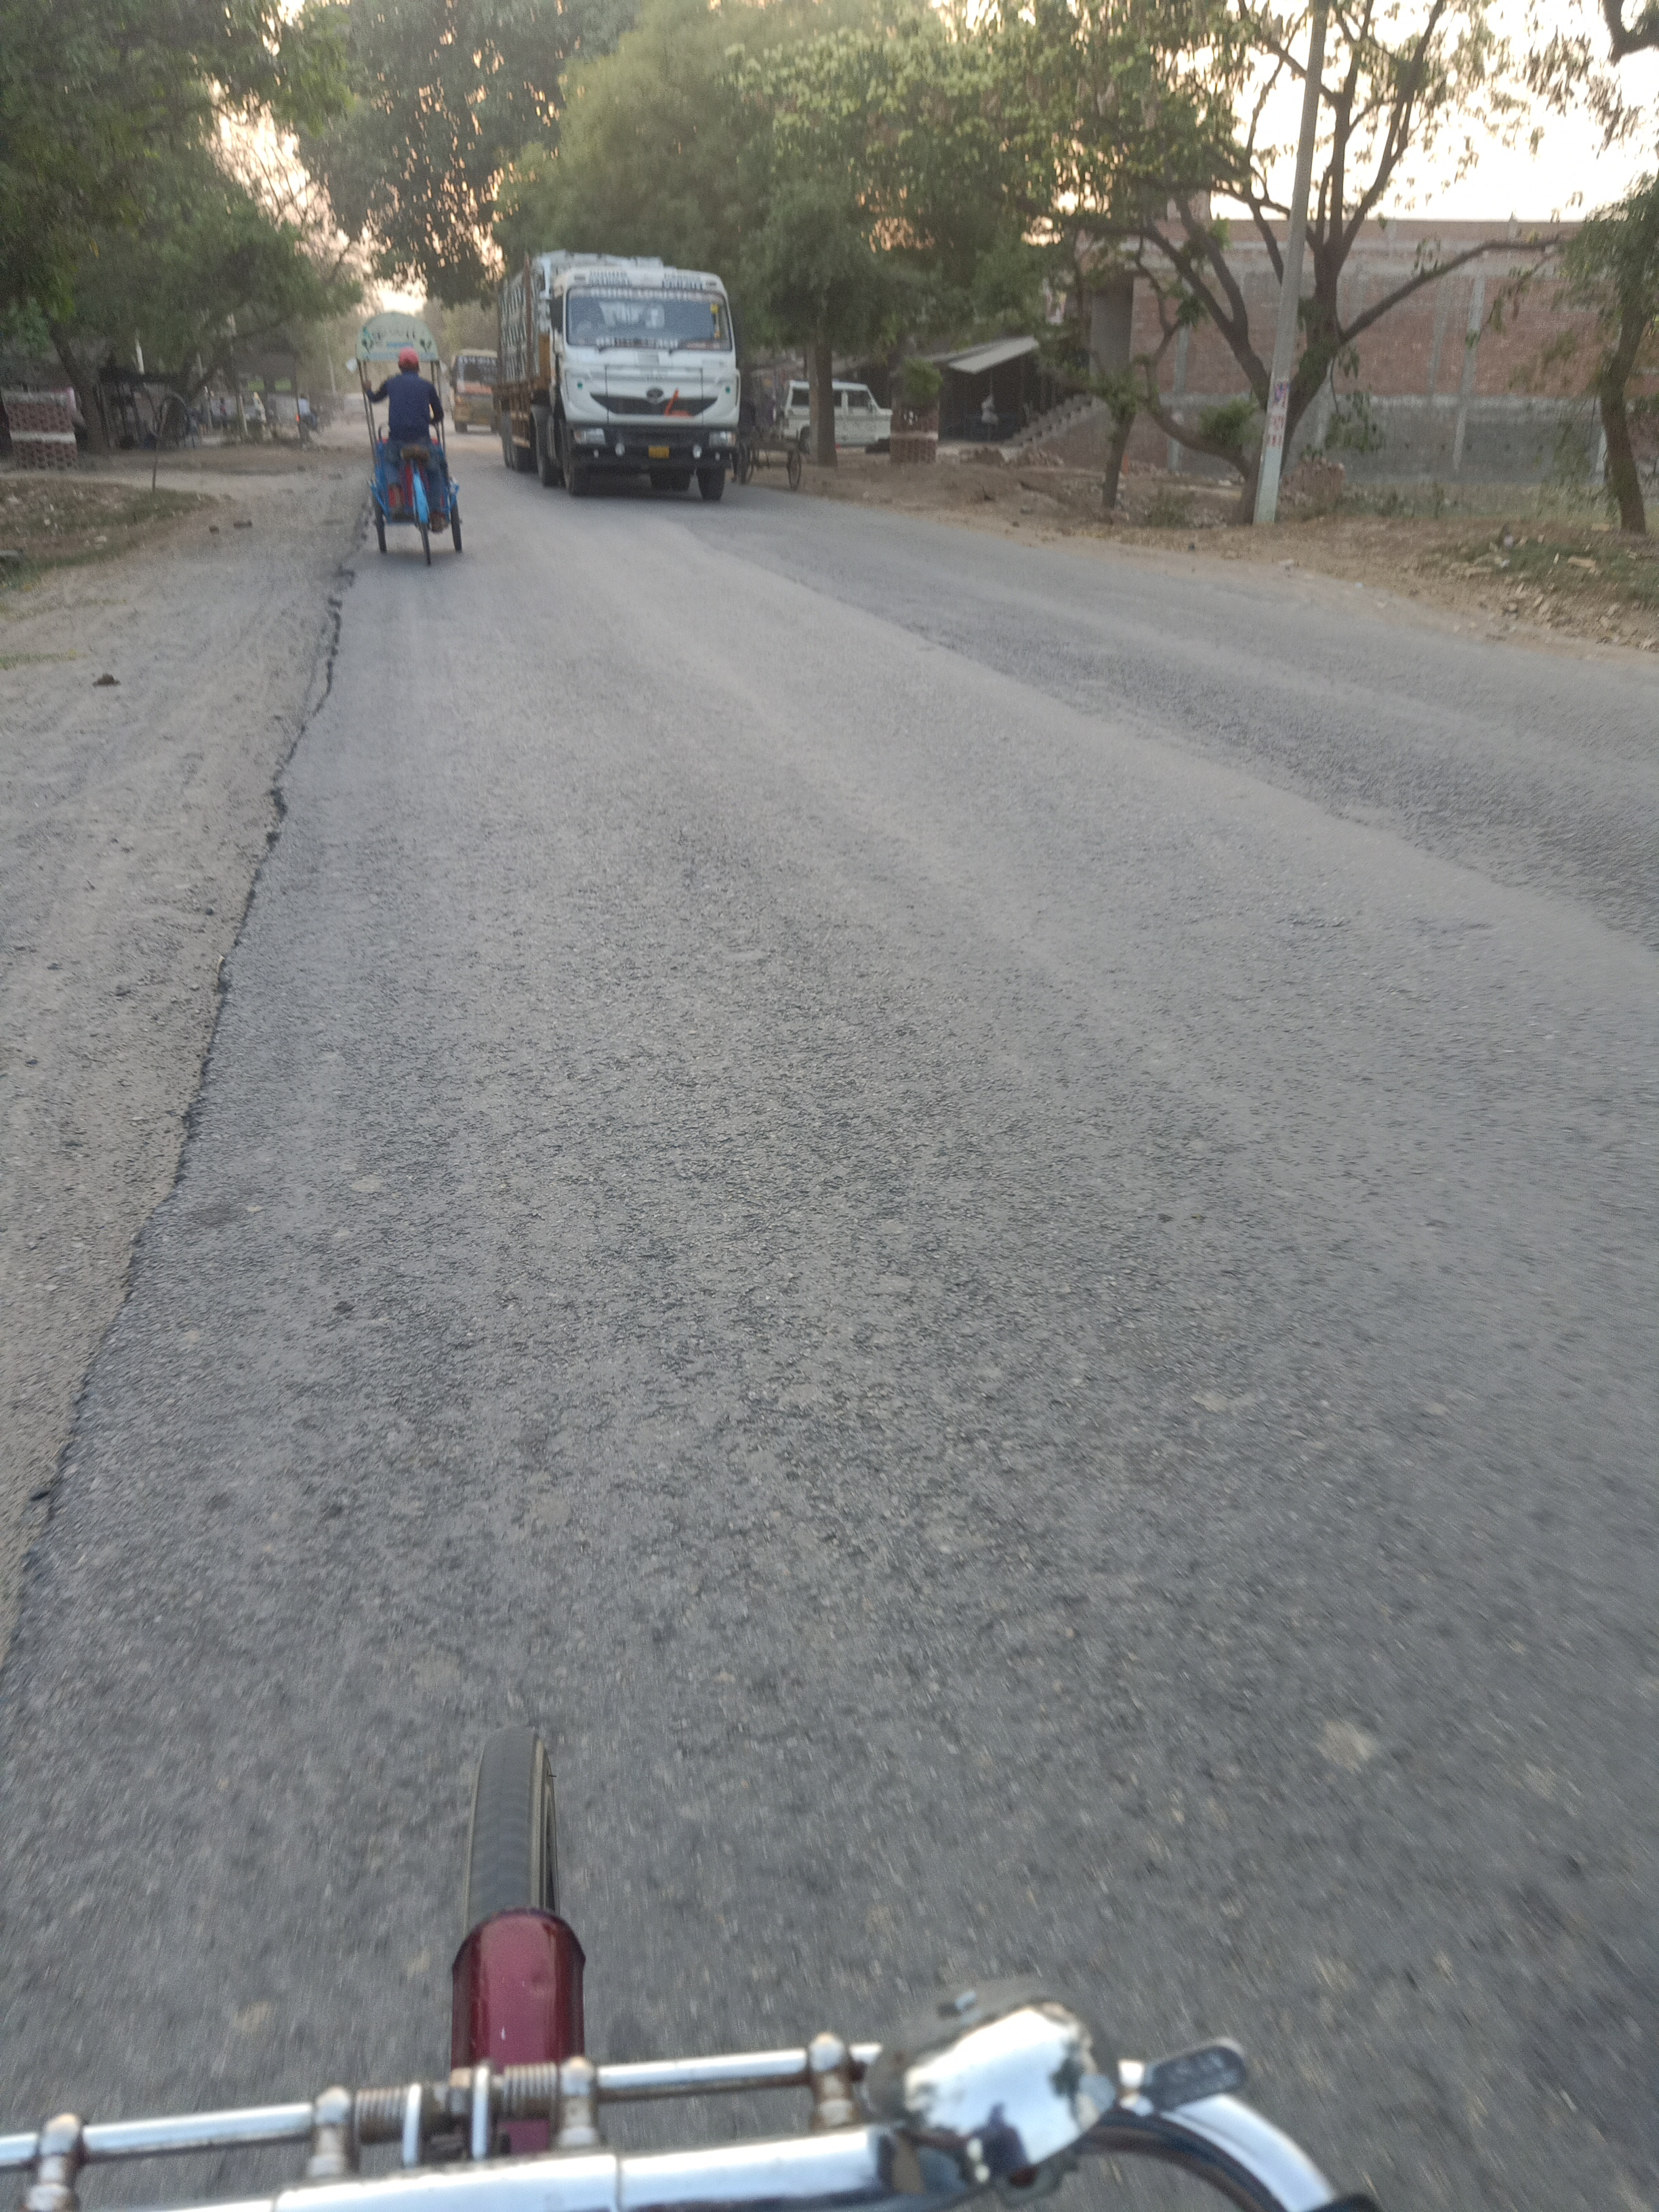truck: (491, 244, 746, 502)
